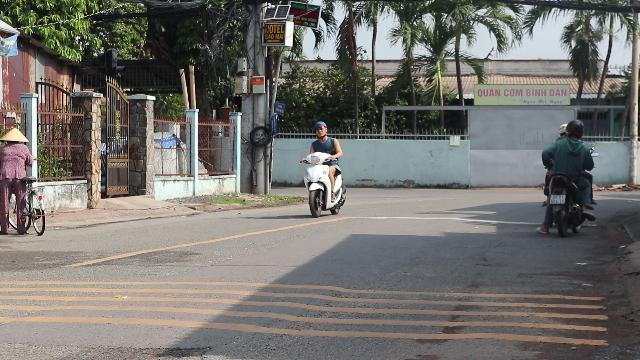helmet: (564, 118, 584, 138), (314, 121, 328, 138)
licenseplate: (550, 195, 566, 204)
motorcyclist: (537, 118, 597, 236), (298, 119, 348, 217)
